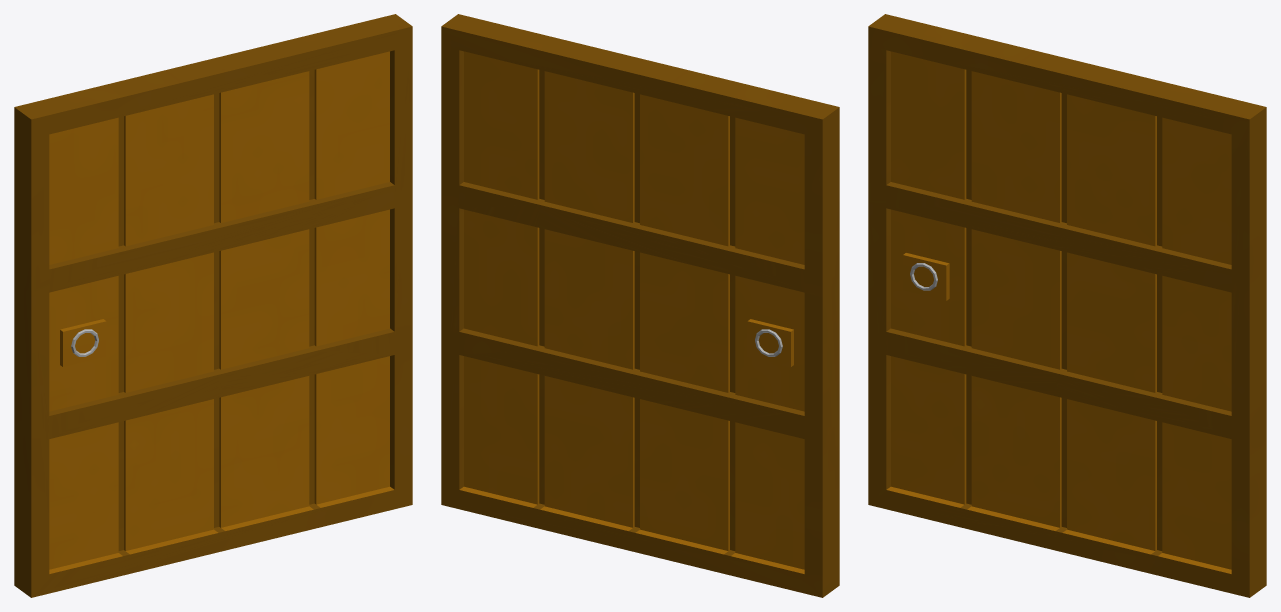
File: Door_3.fbx
3 renders of one model, left to right at view 1: azimuth 30°, elevation 25°; view 2: azimuth 150°, elevation 25°; view 3: azimuth 330°, elevation 25°, orthographic.
Visible parts, largest first — view 1: Door 3; view 2: Door 3; view 3: Door 3.
Part boxes in pixels (x1=…): Door 3: x1=14, y1=14, x2=412, y2=597; Door 3: x1=441, y1=14, x2=839, y2=597; Door 3: x1=868, y1=14, x2=1266, y2=597.
Size of the model in its own units: 169 by 203 by 13.1.
